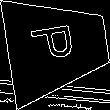P_E: (30, 25, 84, 69)
